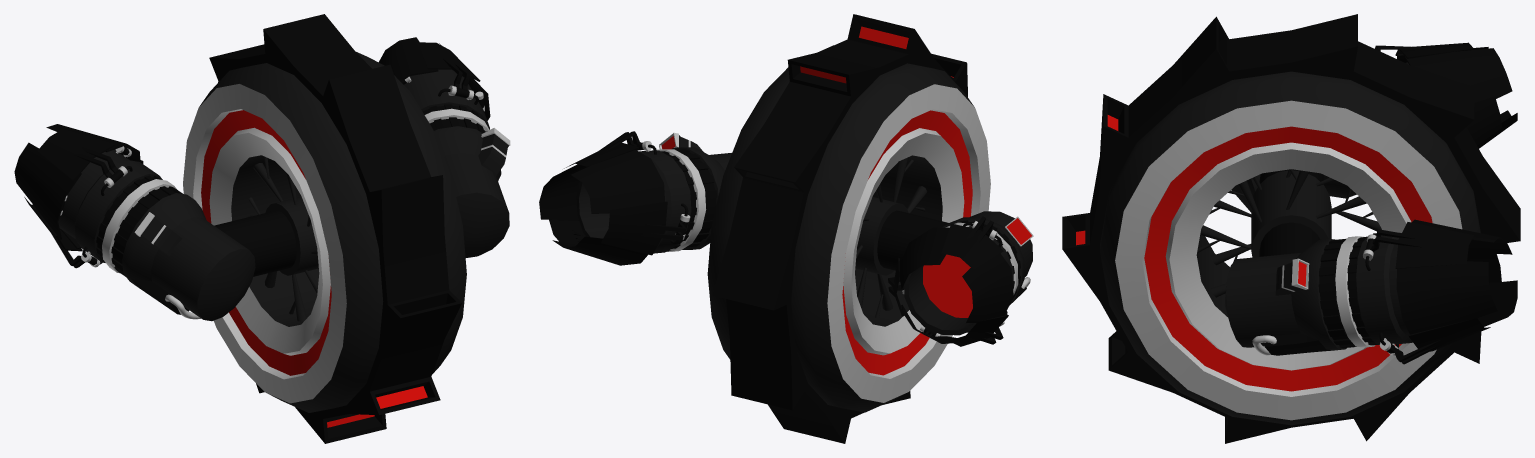
File: DeathWheel-2.dae
The picture shows the model from 3 angles, left to right: view 1: azimuth 30°, elevation 25°; view 2: azimuth 150°, elevation 25°; view 3: azimuth 270°, elevation 25°; orthographic projection. The views are drawn at different scales.
Visible parts, largest first — view 1: DeathWheel_2, rightThruster, leftThruster, Axel, inFlap1, outFlap2, inFlap2_ncl1_1, ThickSpinner, rightSpokes, outFlap3_ncl1_1, ThinSpinner, outFlap1 (+1 smaller); view 2: DeathWheel_2, rightThruster, leftThruster, inFlap2_ncl1_1, outFlap2_ncl1_1, inFlap1, Axel, outFlap2, inFlap3_ncl1_1, inFlap2, rightSpokes, inFlap1_ncl1_1 (+5 smaller); view 3: DeathWheel_2, leftThruster, inFlap3_ncl1_1, outFlap3_ncl1_1, inFlap2, ThickSpinner_ncl1_1, Axel, leftSpokes, outFlap1_ncl1_1, rightSpokes, outFlap3, inFlap1_ncl1_1 (+5 smaller).
Boxes of the visible parts, x1,y1,x2,y2 form: DeathWheel_2: [183, 14, 466, 443]; rightThruster: [58, 146, 255, 321]; leftThruster: [404, 69, 510, 257]; Axel: [214, 210, 296, 276]; inFlap1: [14, 142, 81, 239]; outFlap2: [37, 129, 123, 183]; inFlap2_ncl1_1: [378, 37, 438, 84]; ThickSpinner: [111, 186, 182, 276]; rightSpokes: [248, 156, 318, 321]; outFlap3_ncl1_1: [418, 42, 480, 98]; ThinSpinner: [96, 175, 162, 262]; outFlap1: [24, 197, 97, 268]; DeathWheel_2: [707, 14, 990, 443]; rightThruster: [902, 211, 1033, 336]; leftThruster: [576, 132, 731, 253]; inFlap2_ncl1_1: [571, 150, 664, 213]; outFlap2_ncl1_1: [601, 201, 688, 255]; inFlap1: [962, 253, 1013, 322]; Axel: [877, 210, 948, 270]; outFlap2: [941, 216, 1003, 269]; inFlap3_ncl1_1: [539, 164, 589, 220]; inFlap2: [899, 227, 949, 288]; rightSpokes: [856, 157, 927, 317]; inFlap1_ncl1_1: [552, 236, 647, 265]; DeathWheel_2: [1062, 14, 1520, 443]; leftThruster: [1224, 232, 1412, 355]; inFlap3_ncl1_1: [1396, 261, 1497, 334]; outFlap3_ncl1_1: [1365, 222, 1473, 268]; inFlap2: [1404, 48, 1512, 102]; ThickSpinner_ncl1_1: [1318, 238, 1356, 348]; Axel: [1259, 169, 1323, 256]; leftSpokes: [1197, 169, 1366, 297]; outFlap1_ncl1_1: [1386, 318, 1490, 364]; rightSpokes: [1209, 169, 1381, 265]; outFlap3: [1466, 96, 1502, 145]; inFlap1_ncl1_1: [1477, 280, 1517, 326].
Size of the model in its own units: 5.91 by 4.8 by 5.01.
